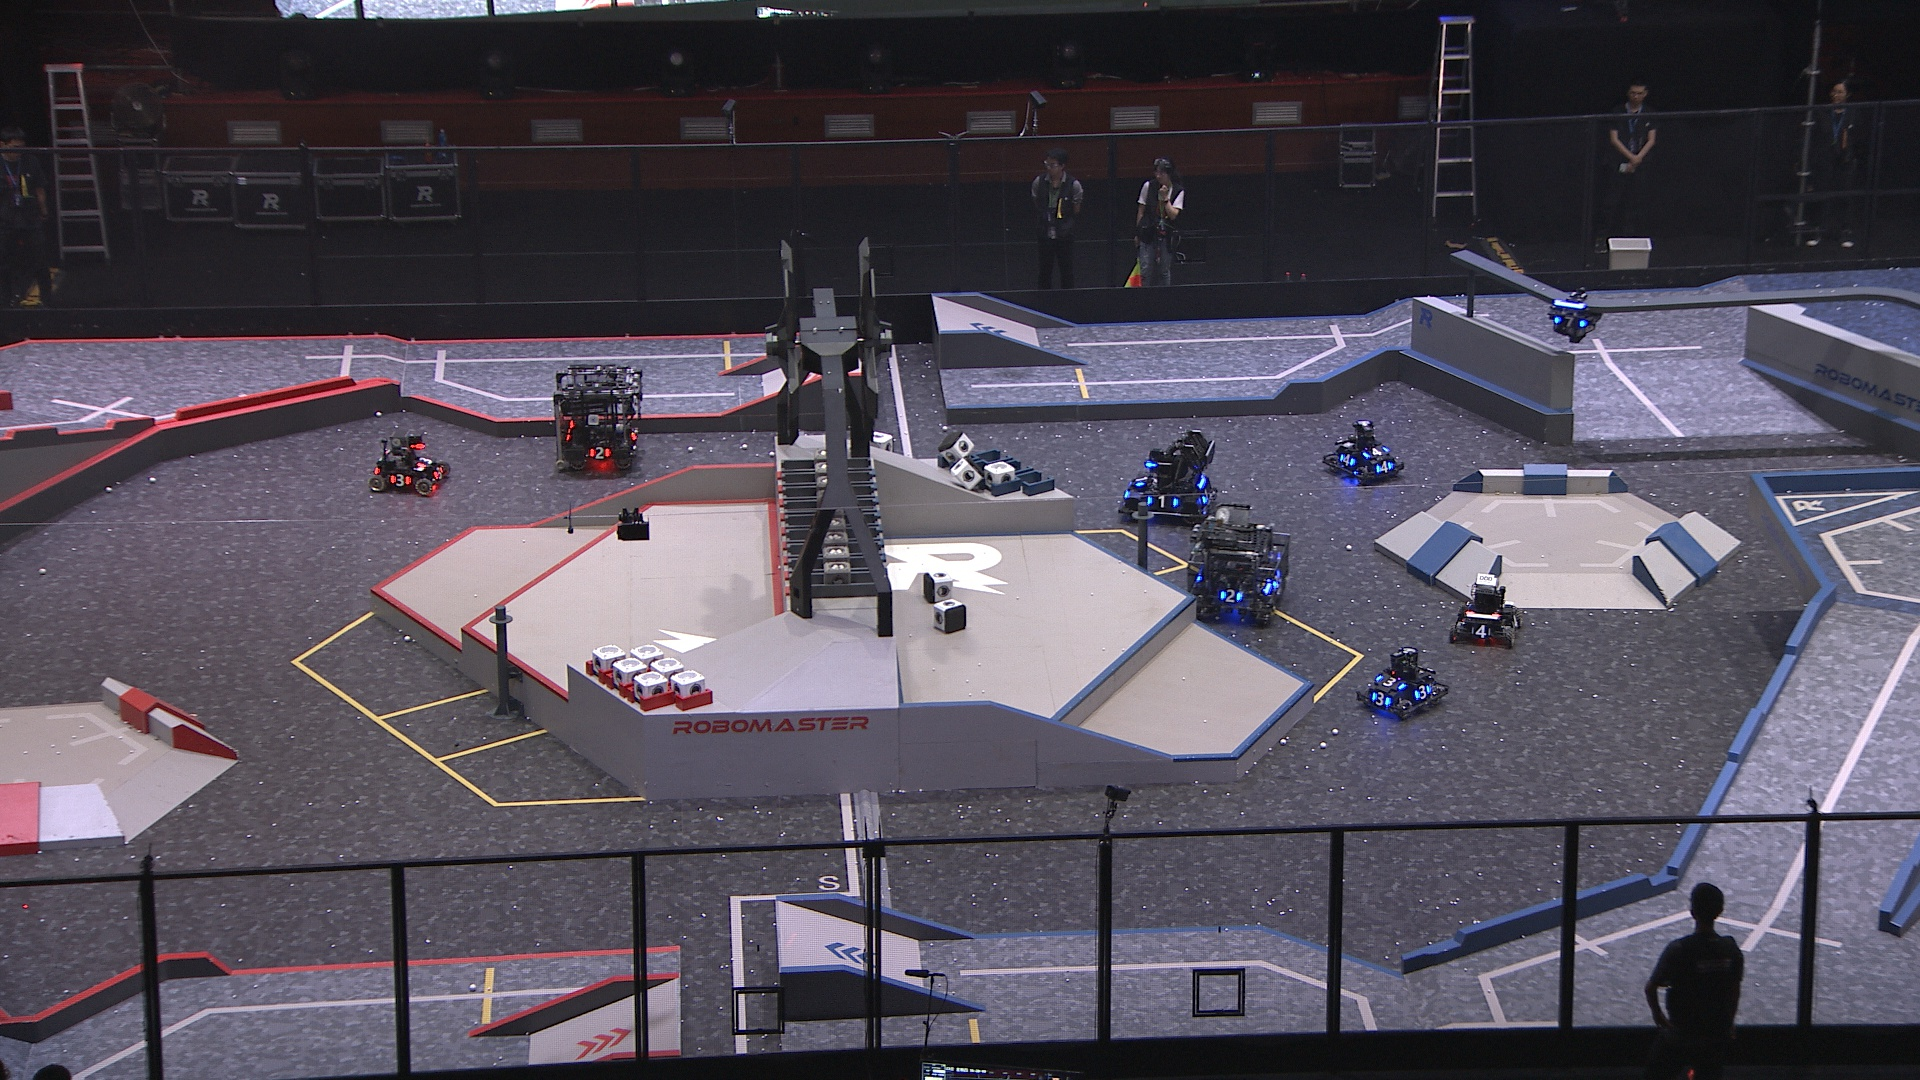armor: (1547, 311, 1588, 330), (1216, 584, 1244, 603), (1149, 493, 1178, 510), (1378, 671, 1406, 688), (1367, 688, 1391, 705), (1134, 471, 1153, 491), (585, 447, 611, 462), (389, 472, 410, 488), (1365, 446, 1387, 460), (1338, 455, 1358, 471), (1414, 683, 1433, 699), (1472, 624, 1491, 638), (1375, 460, 1395, 473), (417, 454, 433, 469), (1200, 487, 1212, 504), (433, 463, 444, 480), (1510, 611, 1520, 629), (1275, 572, 1286, 589)
car: (1185, 502, 1290, 626), (1120, 427, 1233, 535), (547, 357, 647, 475), (1353, 644, 1447, 716), (363, 431, 451, 498), (1448, 571, 1524, 647), (1323, 419, 1400, 487)
watcher: (1542, 285, 1600, 344)
